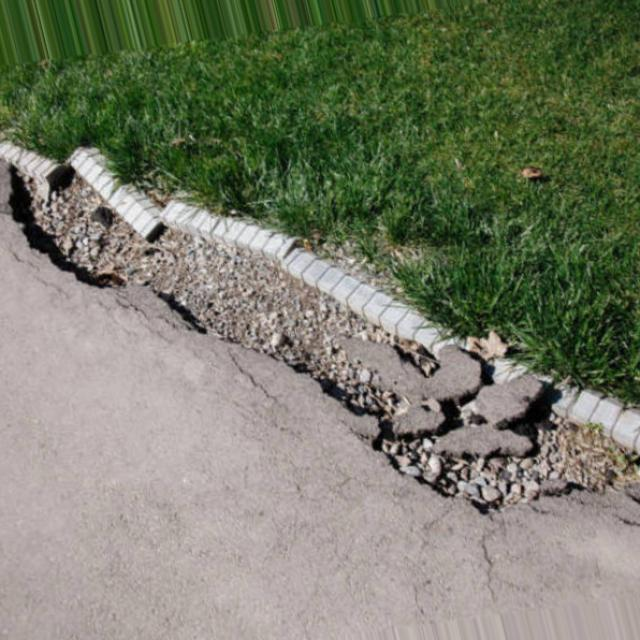Pinggir: (3, 135, 640, 518)
